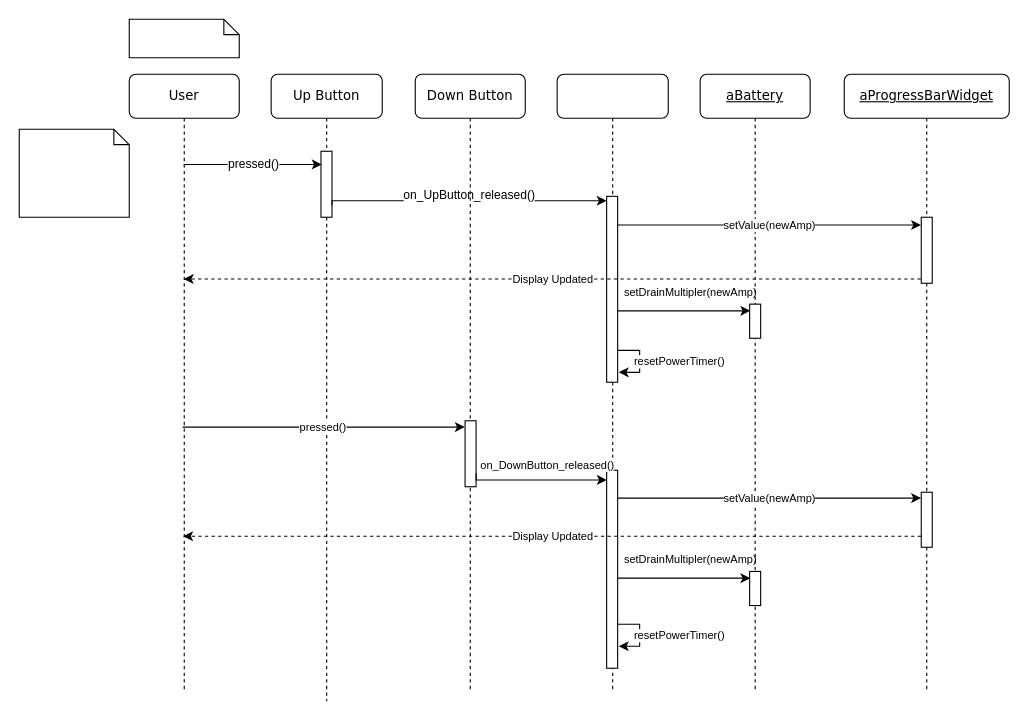
The diagram is 1029 pixels wide and 721 high, and some of its shapes have lost their labels. The shapes that lost their labels are listed below. From the top down, each one's box as (x1, y1, x2, y2) in pixels, then its label:
(128, 18, 239, 58): Set Current
(18, 128, 129, 217): This is assuming that the user is on the therapy display page
(556, 73, 668, 690): MainWindow
